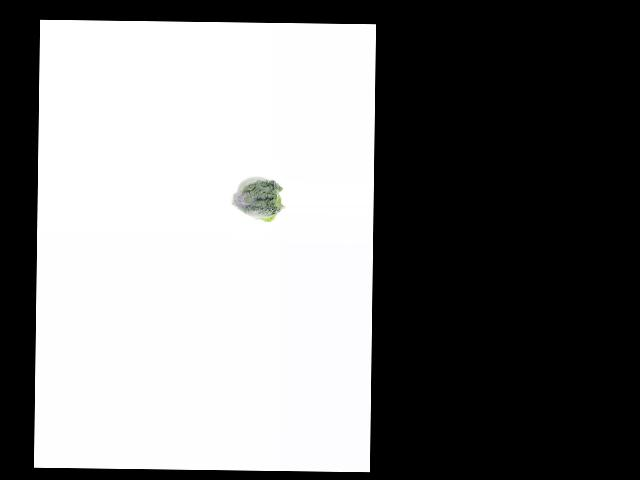lettuce: (231, 174, 284, 224)
